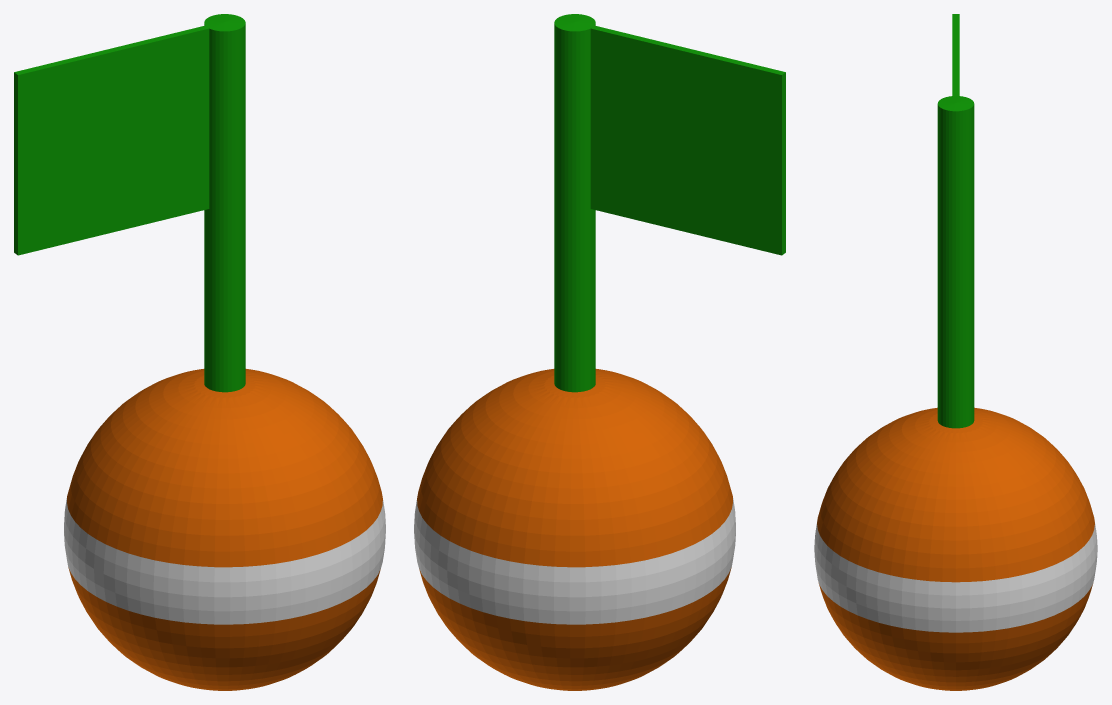
File: start_marker.dae
3 renders of one model, left to right at view 1: azimuth 30°, elevation 25°; view 2: azimuth 150°, elevation 25°; view 3: azimuth 270°, elevation 25°, orthographic. The views are drawn at different scales.
Parts seen in each view (by area): view 1: Sphere; view 2: Sphere; view 3: Sphere.
Part boxes in pixels (x1,y1,x2,y2): Sphere: (14, 14, 385, 690); Sphere: (414, 14, 785, 690); Sphere: (814, 14, 1097, 690).
Size of the model in its own units: 2.47 by 1.98 by 4.42.
